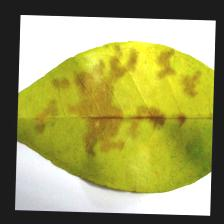black spot: (45, 75, 204, 157)
